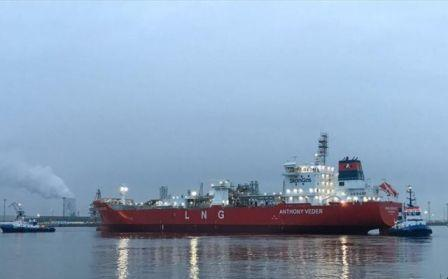Cargoship: (87, 134, 402, 233)
otherboat: (387, 187, 435, 240), (1, 203, 57, 233)
